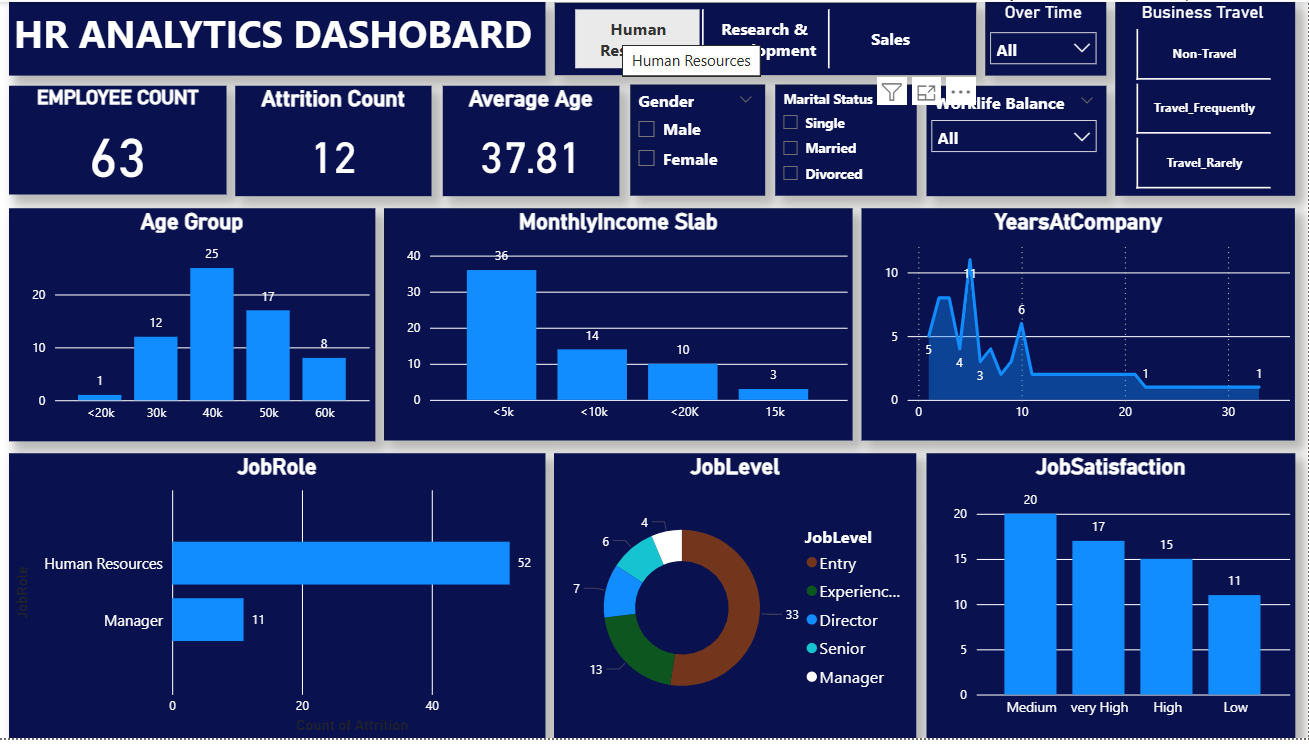

Layout of this report page (visuals, bound fields, positions):
{"tool":"powerbi","page":{"name":"Page 1","canvas":[1280,720],"ordinal":0},"visuals":[{"type":"textbox","box":[9.8,0,524.6,72.1],"z":0},{"type":"card","title":"EMPLOYEE COUNT","fields":{"Values":["CountNonNull(cleaned_data.EmployeeNumber)"]},"box":[9.8,81.9,212.8,106.4],"z":1000},{"type":"slicer","fields":{"Values":["cleaned_data.Department"]},"box":[542.9,0,413.3,72.1],"z":2000},{"type":"card","title":"Attrition Count","fields":{"Values":["cleaned_data.attrition_countyes"]},"box":[231.1,81.9,192,107.6],"z":3000},{"type":"columnChart","title":"MonthlyIncome Slab","fields":{"Category":["cleaned_data.monthlyincomesalb"],"Y":["CountNonNull(cleaned_data.Attrition)"]},"box":[376.6,201.8,458.6,227.4],"z":4000},{"type":"columnChart","title":"Age Group","fields":{"Y":["CountNonNull(cleaned_data.Attrition)"],"Category":["cleaned_data.agegrp"]},"box":[9.6,201.7,358.1,227.8],"z":5000},{"type":"clusteredBarChart","title":"JobRole","fields":{"Category":["cleaned_data.JobRole"],"Y":["CountNonNull(cleaned_data.Attrition)"]},"box":[9.8,441.4,524.6,278.8],"z":6000},{"type":"slicer","fields":{"Values":["cleaned_data.Gender"]},"box":[617.5,80.7,132.1,108.8],"z":7000},{"type":"donutChart","title":"JobLevel","fields":{"Y":["CountNonNull(cleaned_data.Attrition)"],"Category":["cleaned_data.JobLevel"]},"box":[542.9,441.4,354.6,278.8],"z":8000},{"type":"columnChart","title":"JobSatisfaction","fields":{"Y":["CountNonNull(cleaned_data.Attrition)"],"Category":["cleaned_data.jbs_grp"]},"box":[907.3,441.4,360.7,278.8],"z":9000},{"type":"slicer","fields":{"Values":["cleaned_data.MaritalStatus"]},"box":[759.4,80.7,138.2,108.8],"z":10000},{"type":"slicer","title":"Business Travel","fields":{"Values":["cleaned_data.BusinessTravel"]},"box":[1092,0,176.1,189.5],"z":11000},{"type":"areaChart","title":"YearsAtCompany","fields":{"Category":["cleaned_data.YearsAtCompany"],"Y":["CountNonNull(cleaned_data.Attrition)"]},"box":[843.8,201.8,424.3,227.4],"z":12000},{"type":"slicer","title":"Over Time","fields":{"Values":["cleaned_data.OverTime"]},"box":[964.8,0,118.6,72.1],"z":13000},{"type":"slicer","fields":{"Values":["cleaned_data.WorkLifeBalance","cleaned_data.Attrition"]},"box":[907.3,81.9,176.1,107.6],"z":15000},{"type":"card","title":"Average Age","fields":{"Values":["Avg(cleaned_data.Age)"]},"box":[434.1,81.9,172.4,107.6],"z":16000}]}

Visuals, with their boxes in screenshot pixels (x1, y1, x2, y2), scaled from the page's 1280x720 canvas onto the 1309x744 screenshot:
textbox: locate(10, 0, 547, 75)
"EMPLOYEE COUNT" card: locate(10, 85, 228, 195)
slicer - cleaned_data.Department: locate(555, 0, 978, 75)
"Attrition Count" card: locate(236, 85, 433, 196)
"MonthlyIncome Slab" columnChart: locate(385, 209, 854, 444)
"Age Group" columnChart: locate(10, 208, 376, 444)
"JobRole" clusteredBarChart: locate(10, 456, 547, 743)
slicer - cleaned_data.Gender: locate(631, 83, 767, 196)
"JobLevel" donutChart: locate(555, 456, 918, 743)
"JobSatisfaction" columnChart: locate(928, 456, 1297, 743)
slicer - cleaned_data.MaritalStatus: locate(777, 83, 918, 196)
"Business Travel" slicer: locate(1117, 0, 1297, 196)
"YearsAtCompany" areaChart: locate(863, 209, 1297, 444)
"Over Time" slicer: locate(987, 0, 1108, 75)
slicer - cleaned_data.WorkLifeBalance x cleaned_data.Attrition: locate(928, 85, 1108, 196)
"Average Age" card: locate(444, 85, 620, 196)
